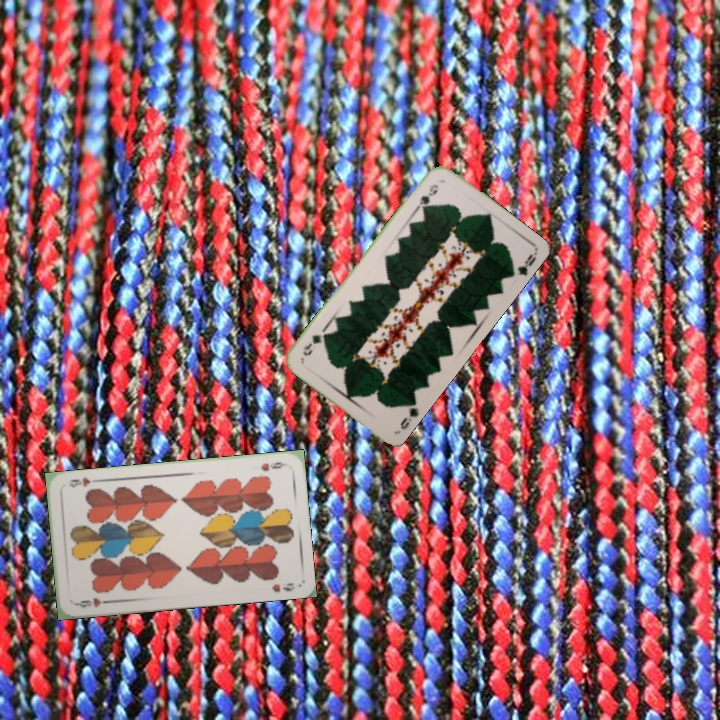G9: (396, 397, 421, 432), (415, 180, 441, 213)
H9: (71, 594, 112, 611), (257, 458, 289, 474)
